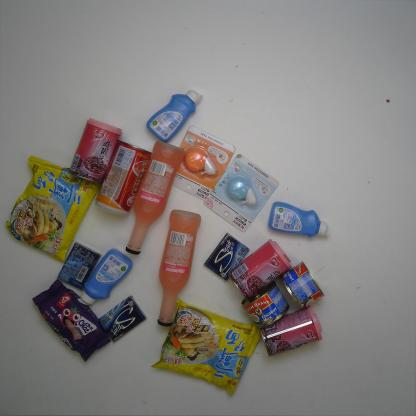Alcohol: (122, 138, 186, 256), (155, 208, 202, 327)
Canned Food: (92, 139, 155, 217), (226, 236, 294, 302), (67, 116, 124, 184), (258, 304, 324, 358), (240, 278, 291, 329), (278, 259, 324, 311)
Dessert: (30, 278, 112, 364)
Gum: (97, 294, 148, 344), (202, 232, 250, 284), (56, 240, 102, 290)
Instant Noodles: (149, 298, 268, 394), (6, 154, 103, 260)
Personal Hygiene: (77, 247, 133, 306), (146, 88, 204, 144), (266, 200, 330, 238)
Stationery: (203, 154, 280, 234), (166, 125, 236, 202)
